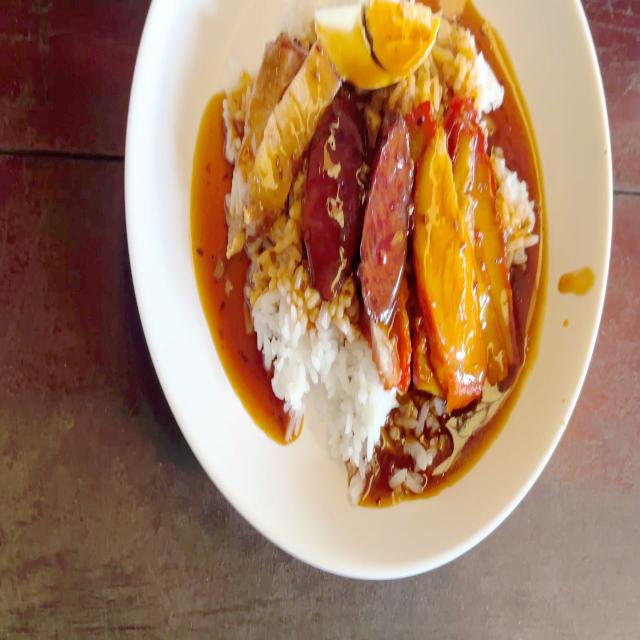boiled_egg: (314, 0, 437, 78)
chainese_sausage: (300, 115, 417, 292), (302, 100, 374, 282), (363, 127, 413, 297)
crispy_pork: (226, 25, 336, 259)
red_pork: (421, 113, 506, 375), (413, 126, 481, 402), (457, 104, 519, 384), (368, 310, 416, 390)
red_pork_and_crispy_pork: (222, 0, 534, 475)
rice: (300, 307, 373, 455), (248, 239, 307, 422)
